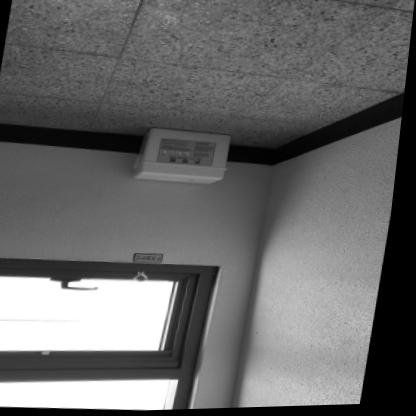DDL: (131, 124, 240, 188)
